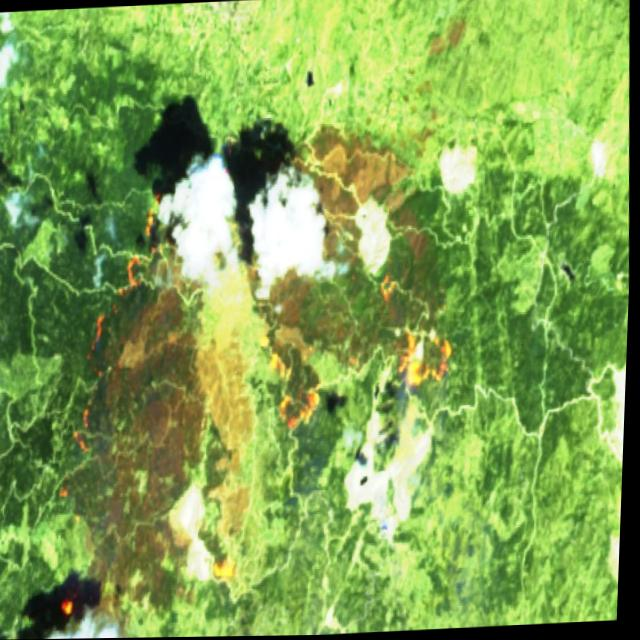fire: (30, 180, 205, 639), (387, 303, 473, 399), (267, 342, 334, 441)
